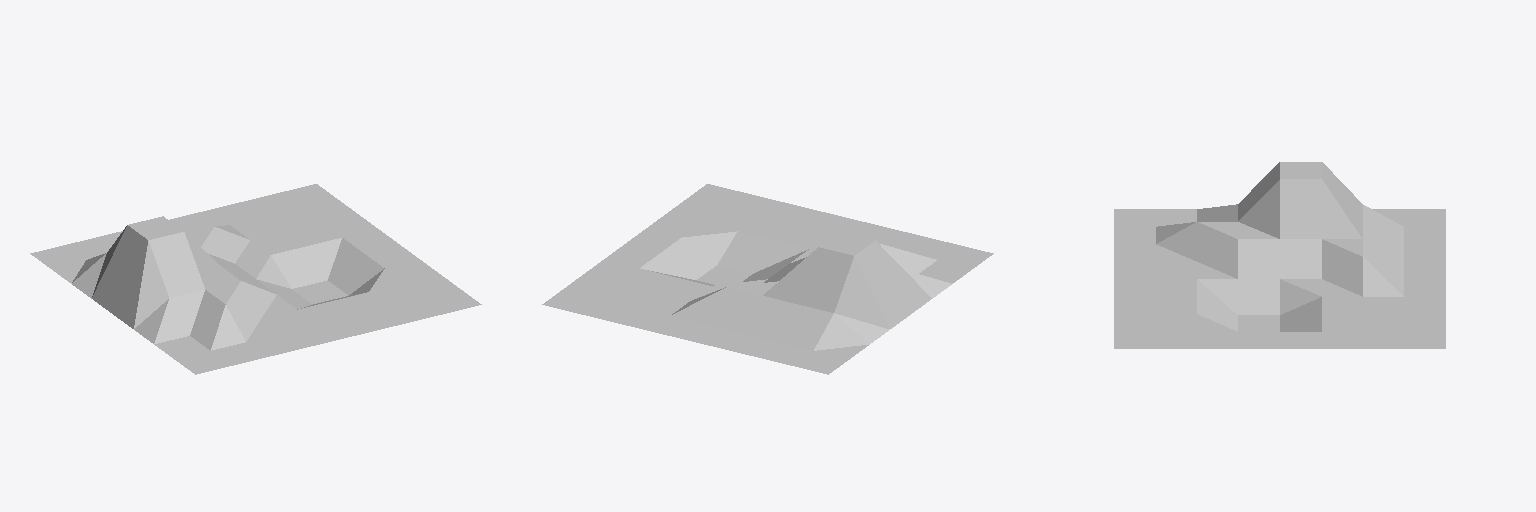
File: stage_meshdemo.obj
The picture shows the model from 3 angles: view 1: azimuth 30°, elevation 25°; view 2: azimuth 150°, elevation 25°; view 3: azimuth 270°, elevation 25°; orthographic projection.
Parts seen in each view (by area): view 1: 平面; view 2: 平面; view 3: 平面.
Part boxes in pixels (x1,y1,x2,y2): 平面: (30,184,481,374); 平面: (542,184,993,374); 平面: (1114,162,1445,348).
Bounding box in the file's own units: 2 × 0.5579 × 2.